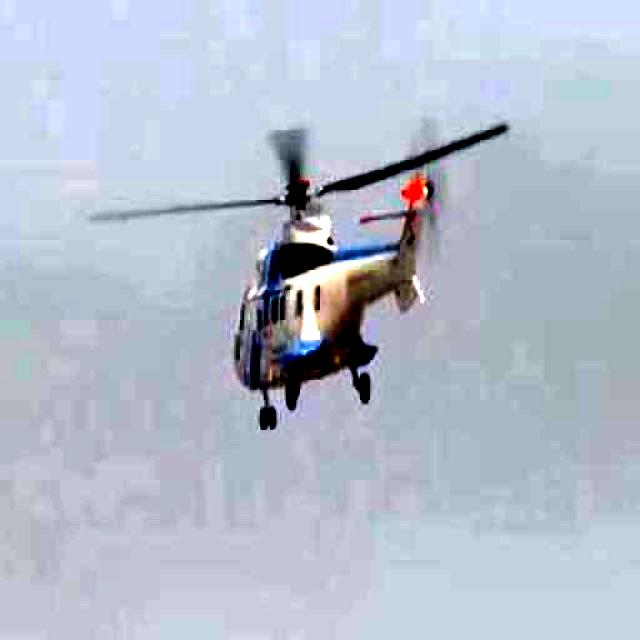drone: (89, 85, 535, 442)
